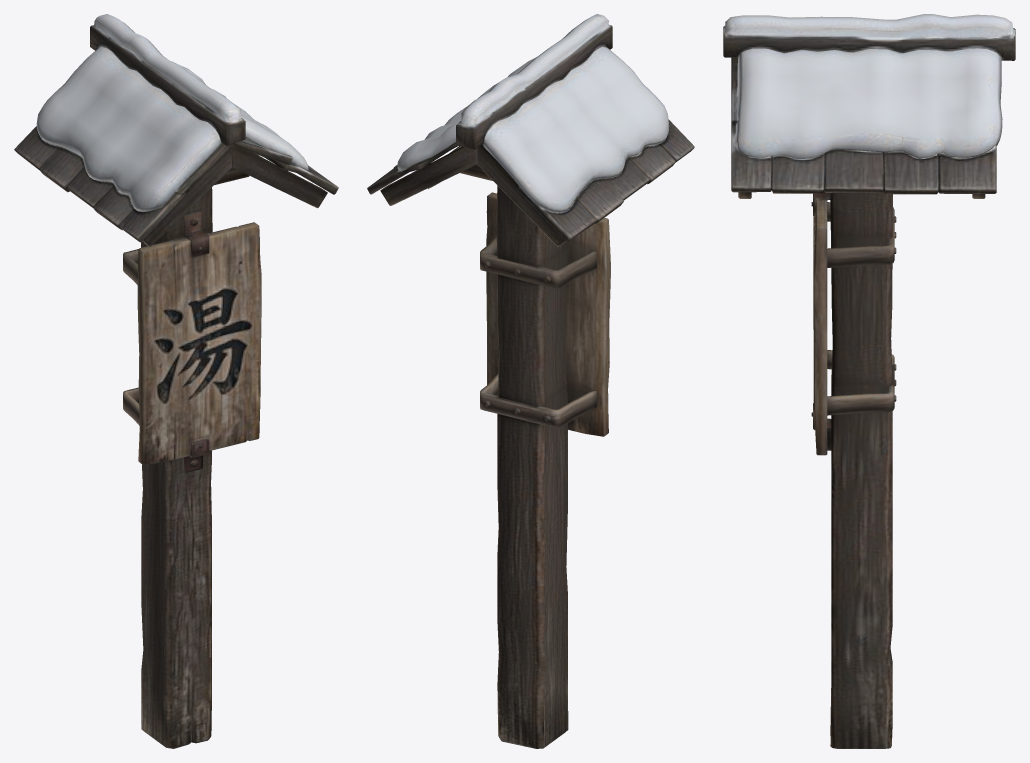
The model's file is yu-sign.glb.
3 renders of one model, left to right at view 1: azimuth 30°, elevation 25°; view 2: azimuth 150°, elevation 25°; view 3: azimuth 270°, elevation 25°, orthographic. The views are drawn at different scales.
Parts seen in each view (by area): view 1: tripo_node_7eb366bc-0abf-43b4-8e66-39d6757444da; view 2: tripo_node_7eb366bc-0abf-43b4-8e66-39d6757444da; view 3: tripo_node_7eb366bc-0abf-43b4-8e66-39d6757444da.
Boxes of the visible parts, x1=… form: tripo_node_7eb366bc-0abf-43b4-8e66-39d6757444da: x1=14, y1=14, x2=338, y2=748; tripo_node_7eb366bc-0abf-43b4-8e66-39d6757444da: x1=367, y1=14, x2=694, y2=748; tripo_node_7eb366bc-0abf-43b4-8e66-39d6757444da: x1=723, y1=14, x2=1015, y2=748.
Size of the model in its own units: 0.5707 by 1.8 by 0.6622.
1 material, 1 textured.
